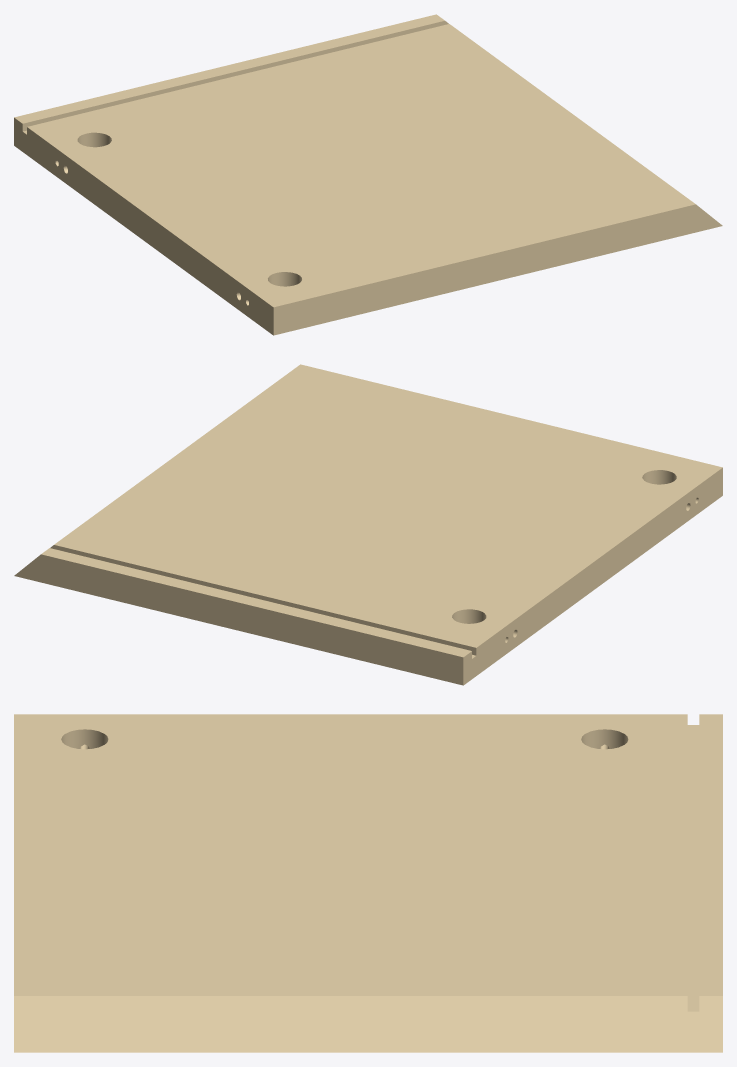
File: side_left.obj
The picture shows the model from 3 angles, top to bottom: view 1: azimuth 30°, elevation 25°; view 2: azimuth 150°, elevation 25°; view 3: azimuth 270°, elevation 25°; orthographic projection. The views are drawn at different scales.
Parts seen in each view (by area): view 1: 1; view 2: 1; view 3: 1.
Part boxes in pixels (bbox=[...]): 1: bbox=[14, 14, 722, 335]; 1: bbox=[14, 364, 722, 685]; 1: bbox=[14, 714, 722, 1052].
Size of the model in its own units: 300 by 18 by 300.
